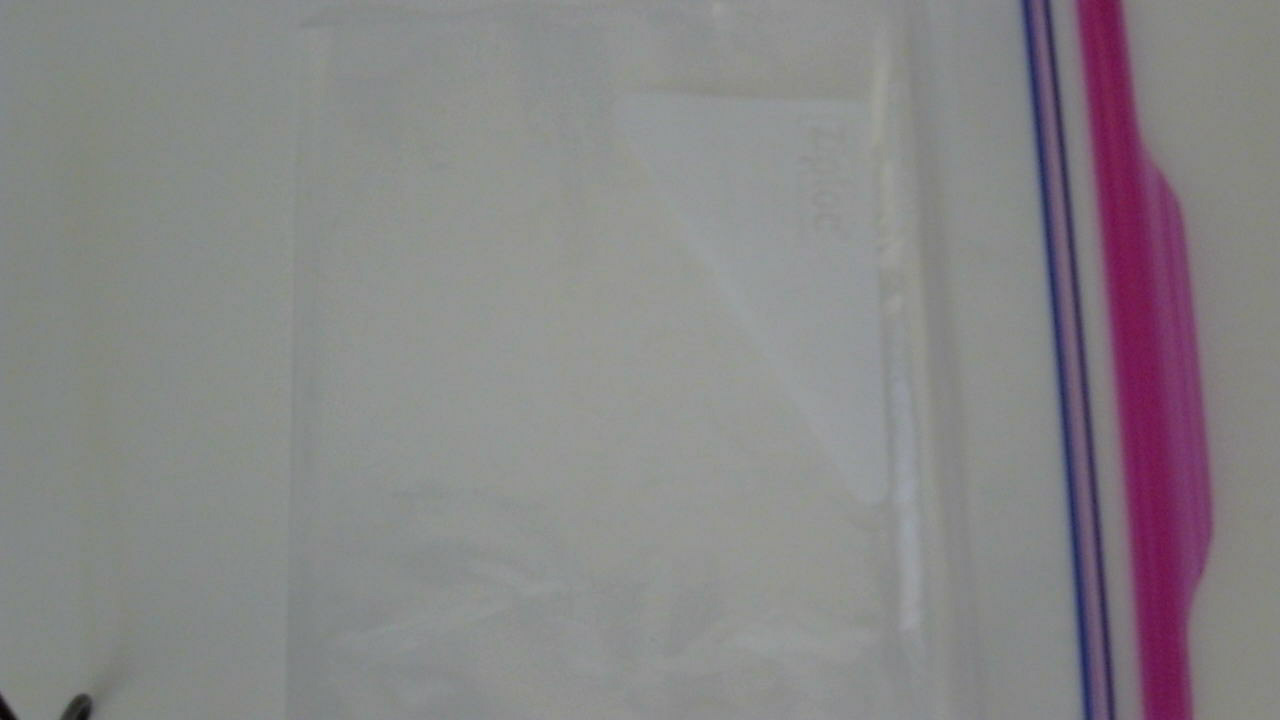Plastic Bag: (292, 18, 1224, 720)
